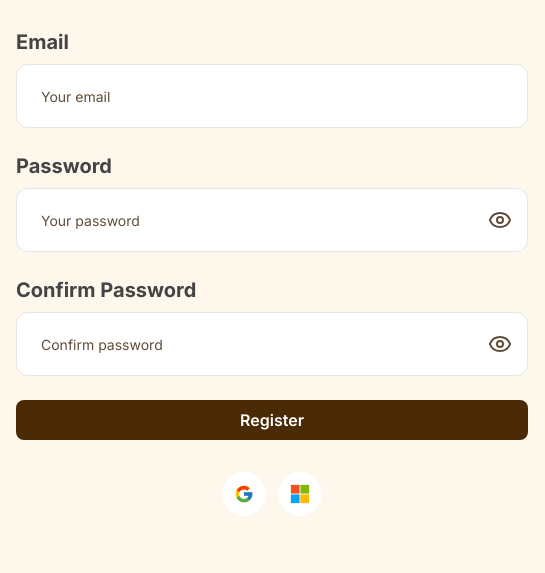
Scenario: RegisterForm › shows validation error for invalid email
Type "invalid-email" into the field labelled "Email" at (272, 96), box [16,64,528,128]
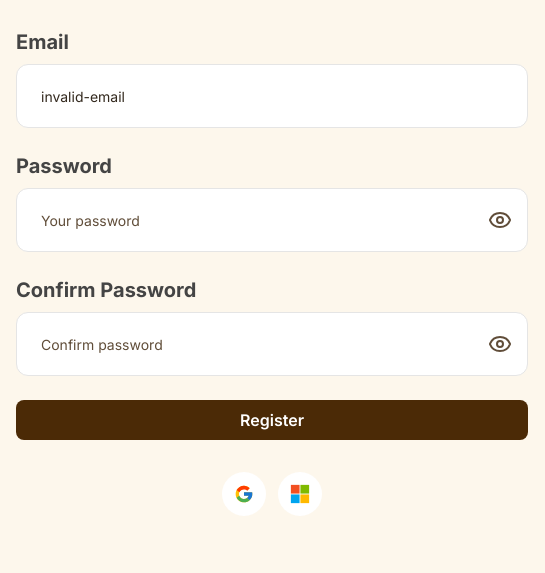
Click the button "Register" at (272, 420), box [16,400,528,440]
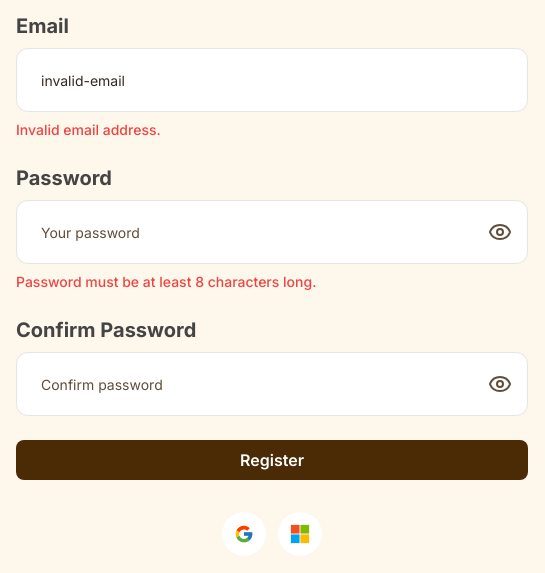
Result: the text "Invalid email address." is shown at [16,121,161,138]
